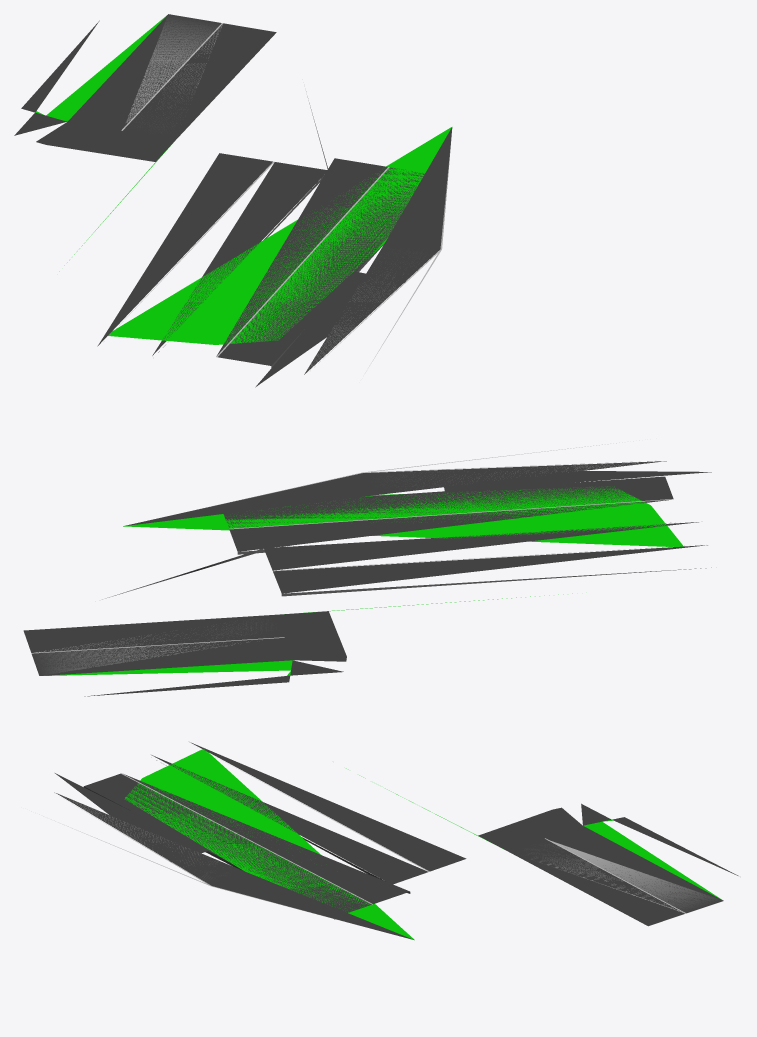
The picture shows the model from 3 angles, top to bottom: view 1: azimuth 30°, elevation 25°; view 2: azimuth 150°, elevation 25°; view 3: azimuth 270°, elevation 25°; orthographic projection. The views are drawn at different scales.
Size of the model in its own units: 51.62 by 0.201 by 53.51.
